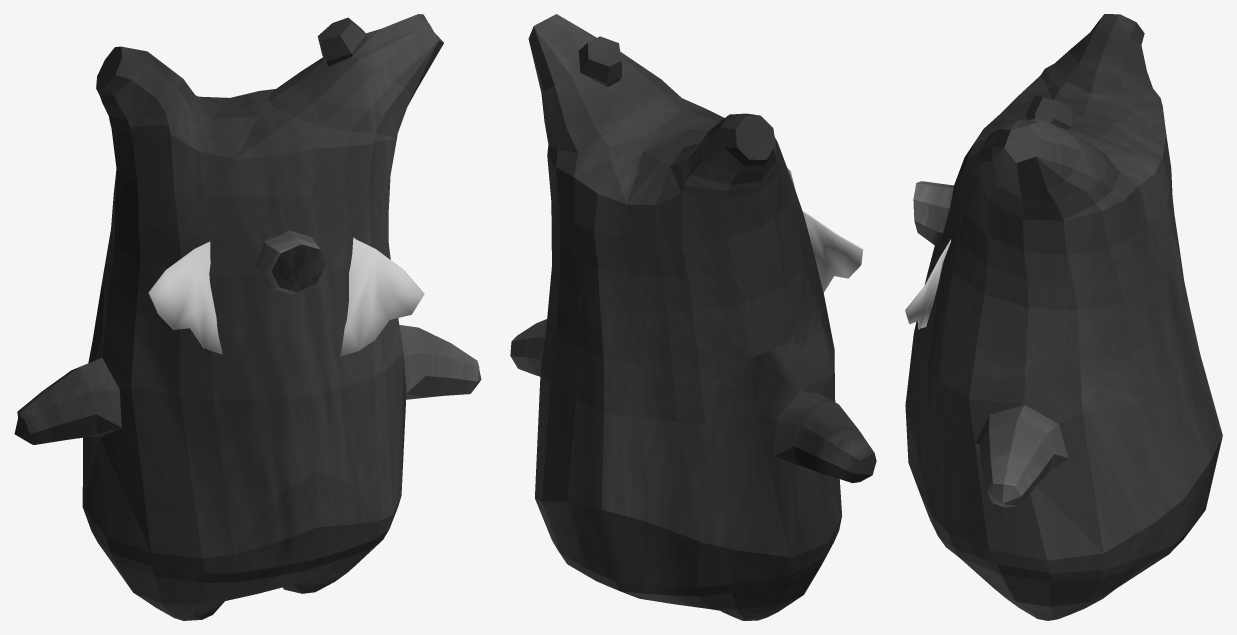
The model's file is frame_0127.obj.
3 renders of one model, left to right at view 1: azimuth 30°, elevation 25°; view 2: azimuth 150°, elevation 25°; view 3: azimuth 270°, elevation 25°, orthographic. The views are drawn at different scales.
Visible parts, largest first — view 1: korok, leaf, nose; view 2: korok, leaf; view 3: korok, nose, leaf.
Part boxes in pixels (x1,y1,x2,y2): korok: (14,14,481,620); leaf: (148,237,424,356); nose: (255,230,326,296); korok: (510,14,876,620); leaf: (802,211,863,292); korok: (905,14,1222,620); nose: (913,181,953,246); leaf: (905,239,950,329).
Bounding box in the file's own units: 1.71 × 2.18 × 1.16.
